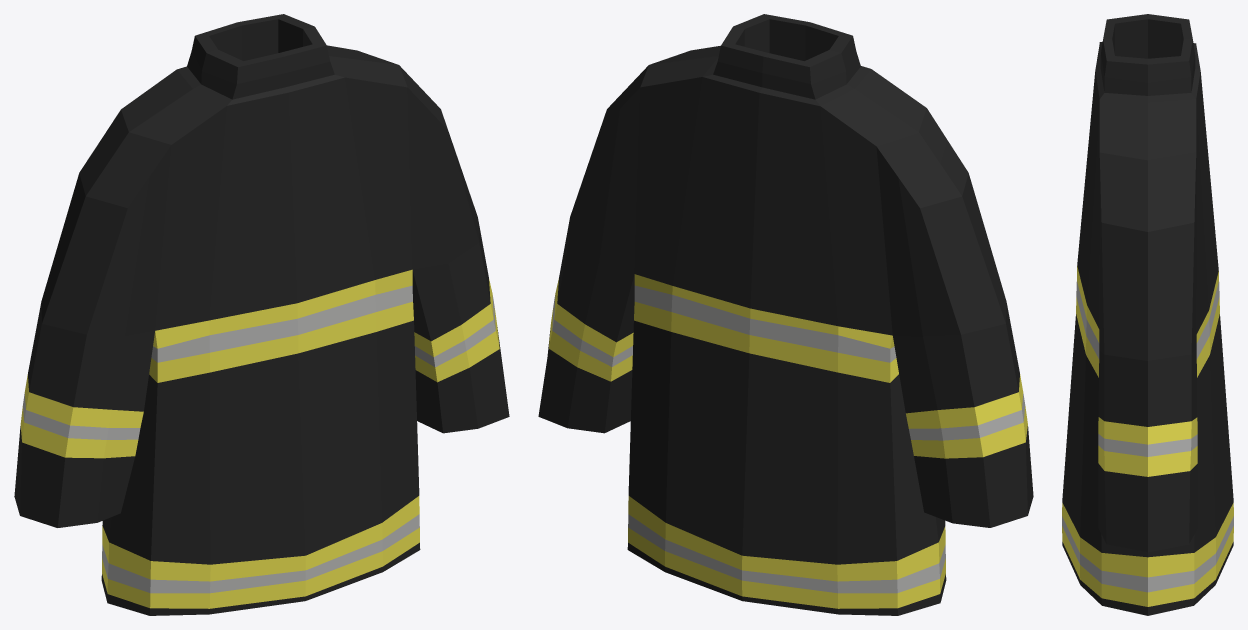
The model's file is Mameluco.fbx.
3 renders of one model, left to right at view 1: azimuth 30°, elevation 25°; view 2: azimuth 150°, elevation 25°; view 3: azimuth 270°, elevation 25°, orthographic. The views are drawn at different scales.
Parts seen in each view (by area): view 1: ropa; view 2: ropa; view 3: ropa.
Part boxes in pixels (box(x1,y1,x2,y2)): ropa: box(14, 14, 509, 615); ropa: box(538, 14, 1033, 615); ropa: box(1062, 14, 1233, 615).
Bounding box in the file's own units: 408 × 426 × 131.
